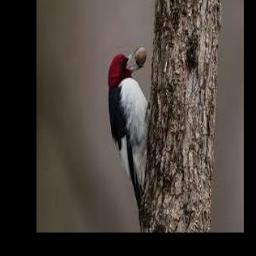Woodpecker: (108, 46, 150, 229)
